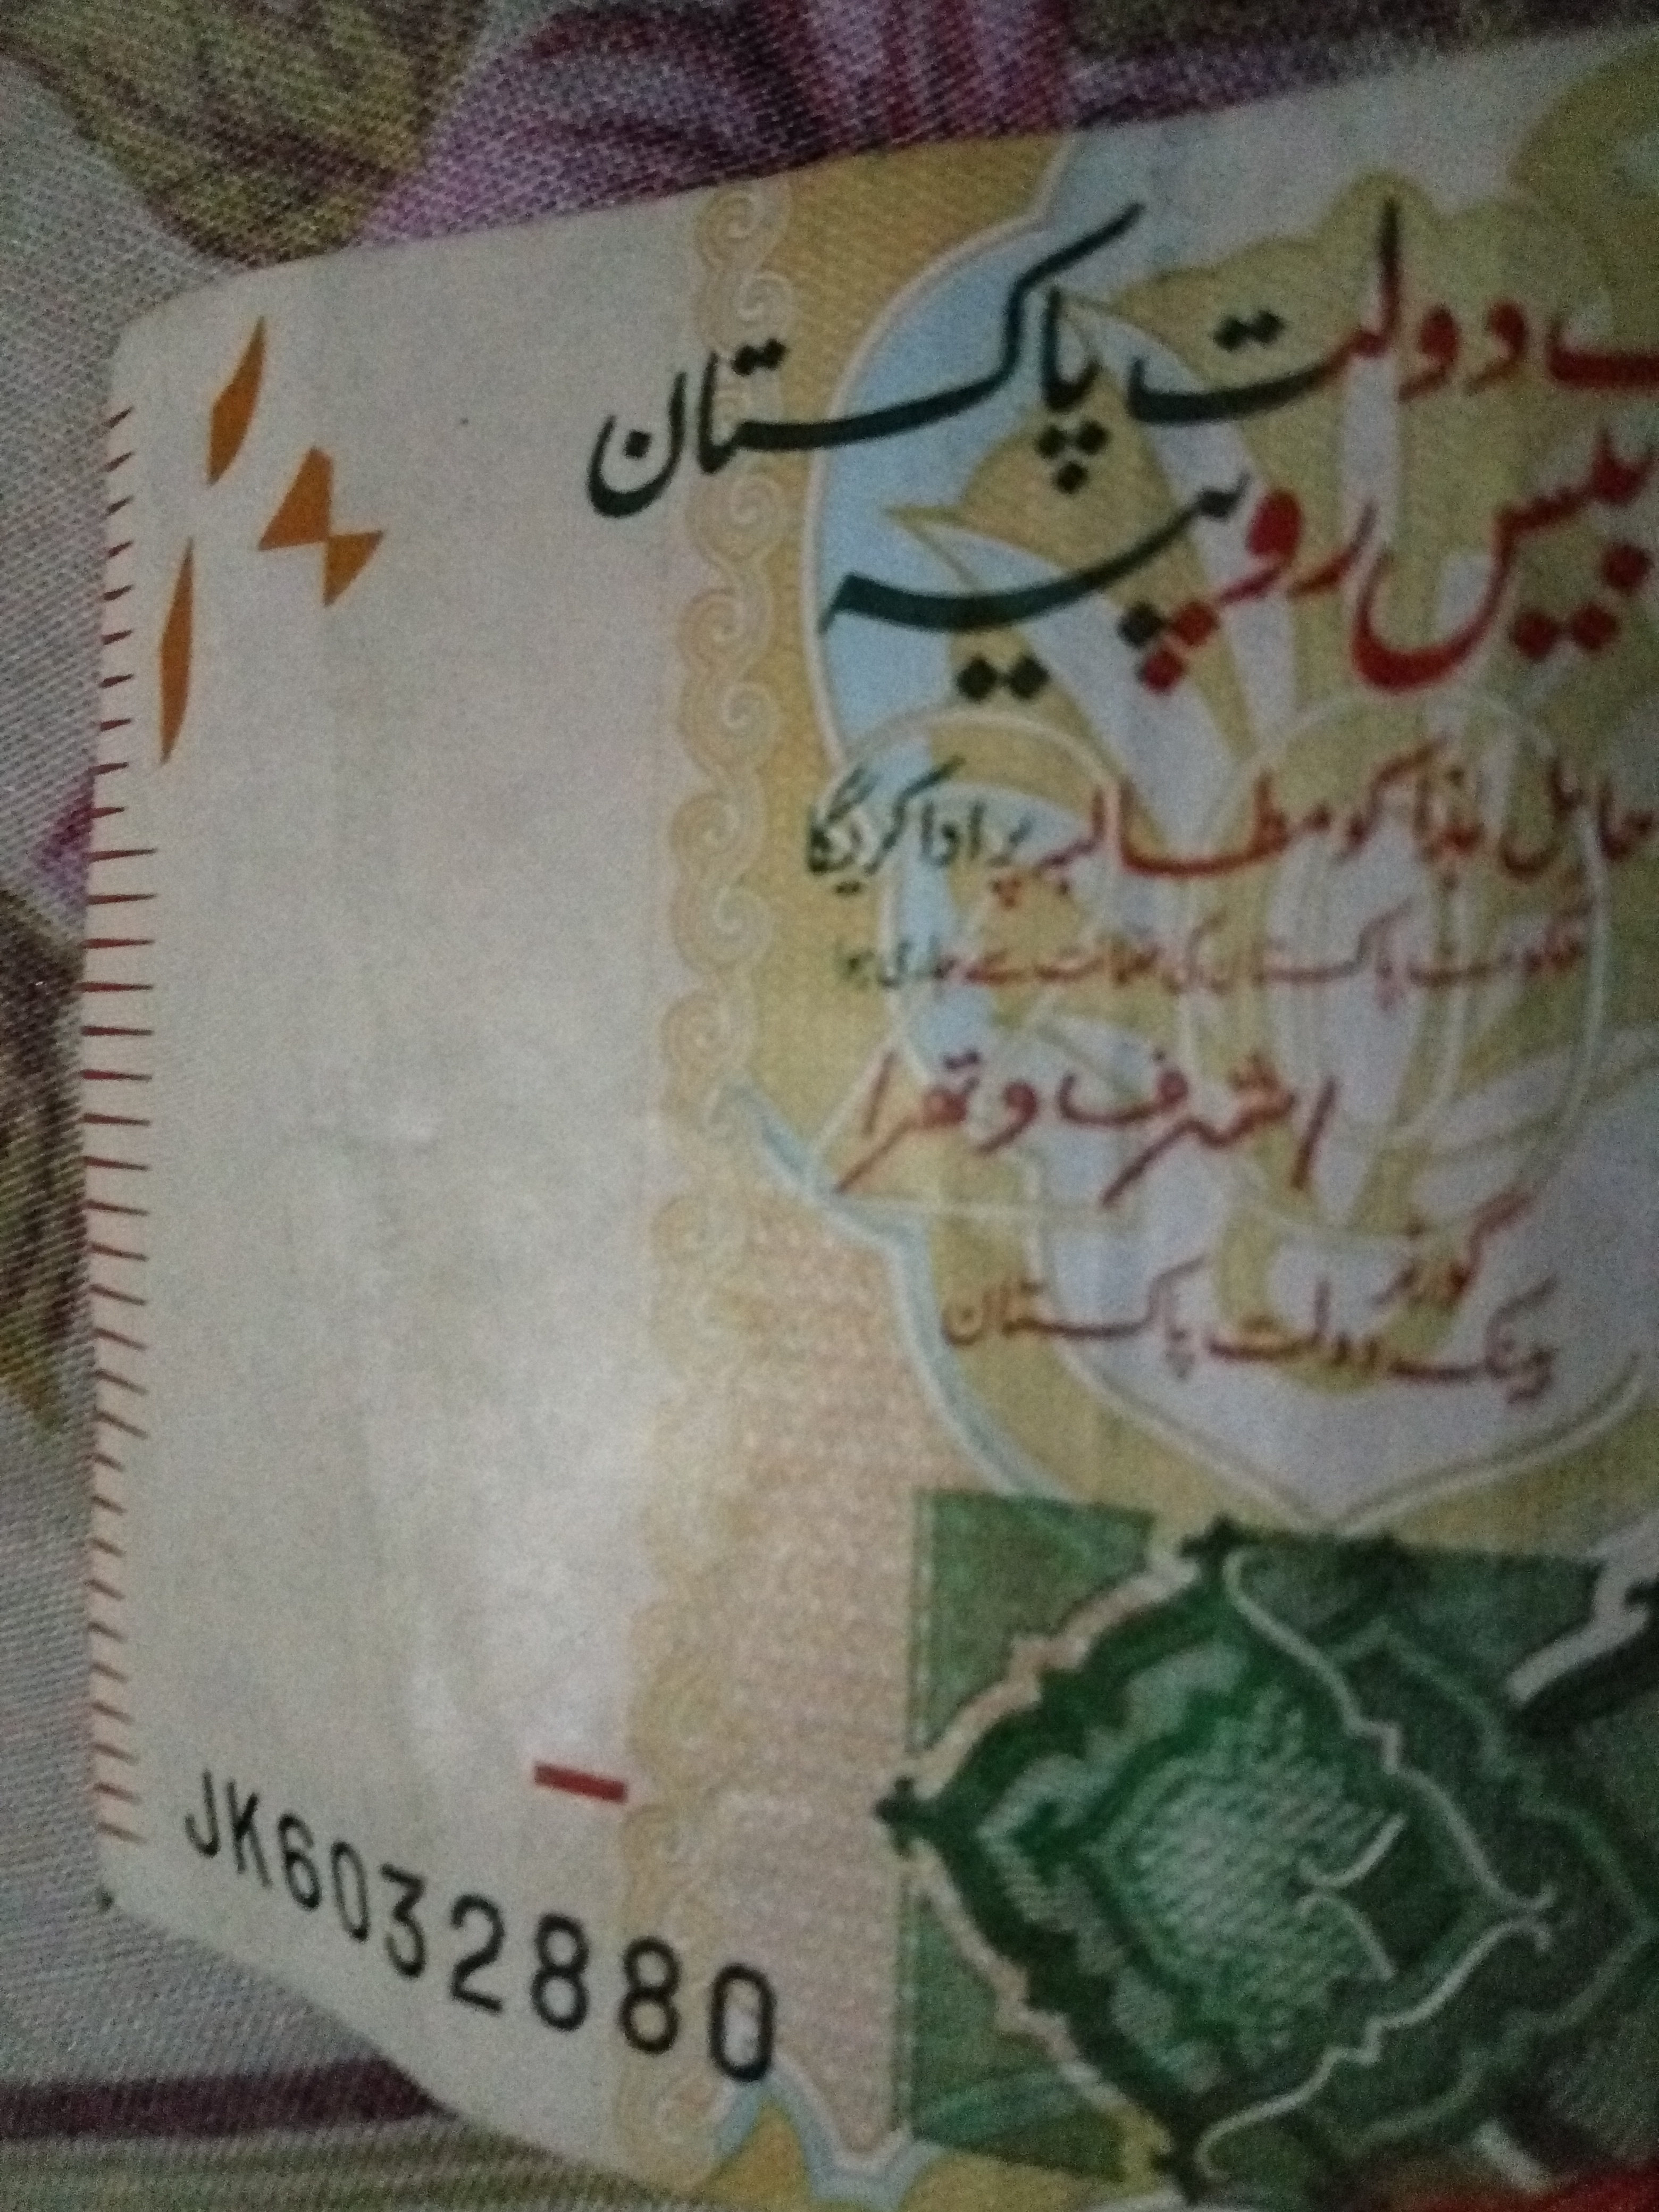20 rupee: (49, 183, 1621, 2207), (448, 1656, 749, 1864)
